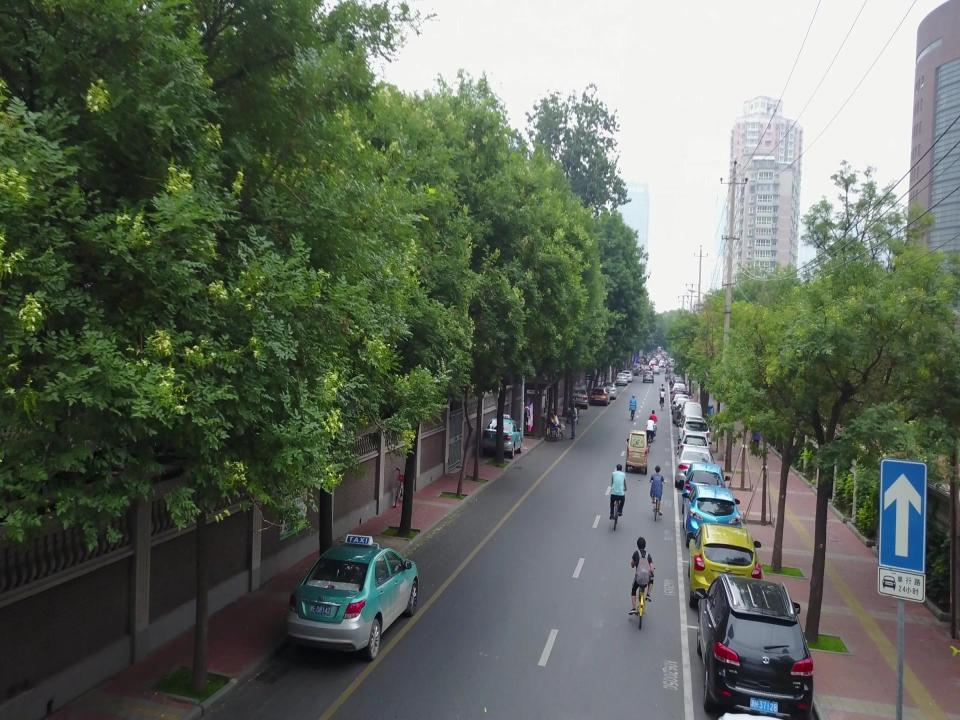car: (286, 536, 418, 661), (697, 580, 811, 720), (689, 524, 761, 613), (682, 486, 742, 549), (684, 460, 732, 506), (482, 414, 522, 458), (674, 446, 712, 485), (679, 416, 709, 448), (676, 433, 710, 461), (680, 403, 704, 434), (673, 399, 697, 424), (672, 393, 690, 417), (571, 387, 588, 410), (589, 387, 609, 404), (670, 388, 687, 405), (670, 389, 688, 405), (602, 380, 616, 400), (671, 383, 687, 400), (620, 369, 632, 382), (642, 371, 654, 384), (615, 373, 627, 385), (672, 376, 684, 388), (628, 366, 638, 375)
van: (627, 430, 647, 476)
